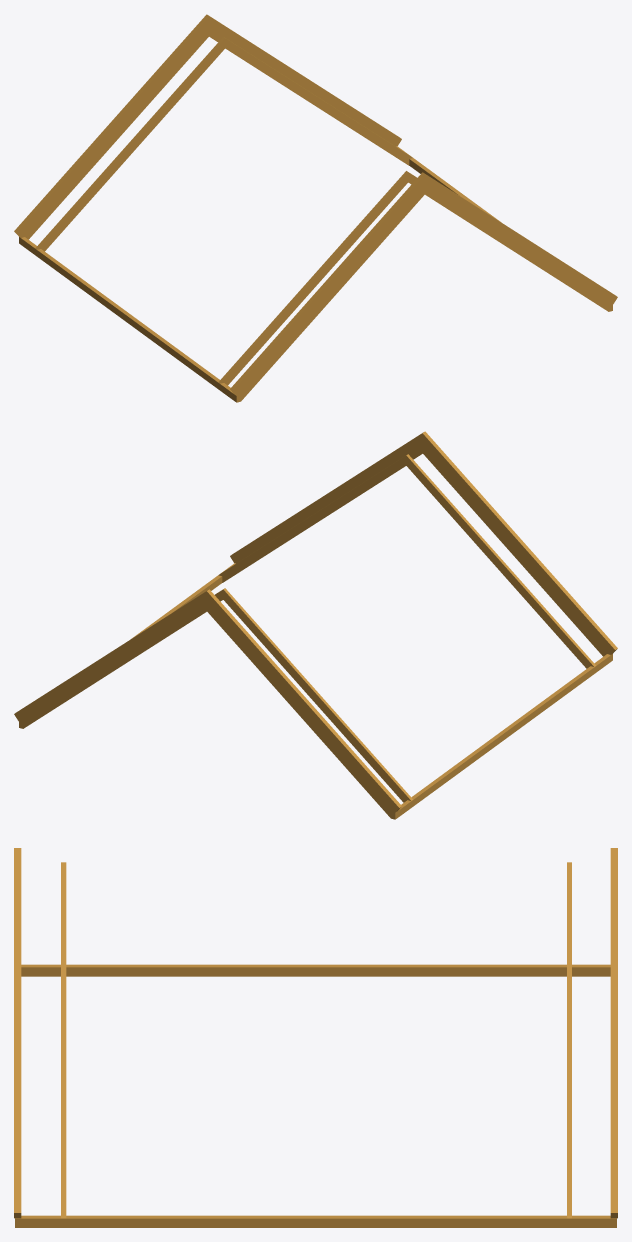
Rendered from boards.obj.
3 views of the same model, one above another, from view 1: azimuth 30°, elevation 25°; view 2: azimuth 150°, elevation 25°; view 3: azimuth 270°, elevation 25° (orthographic). The views are drawn at different scales.
Visible parts, largest first — view 1: boards; view 2: boards; view 3: boards.
Part boxes in pixels (left/top/right/bottom): boards: left=14, top=14, right=617, bottom=402; boards: left=14, top=431, right=617, bottom=819; boards: left=14, top=848, right=617, bottom=1227.
Size of the model in its own units: 11.68 by 5.29 by 11.46.
